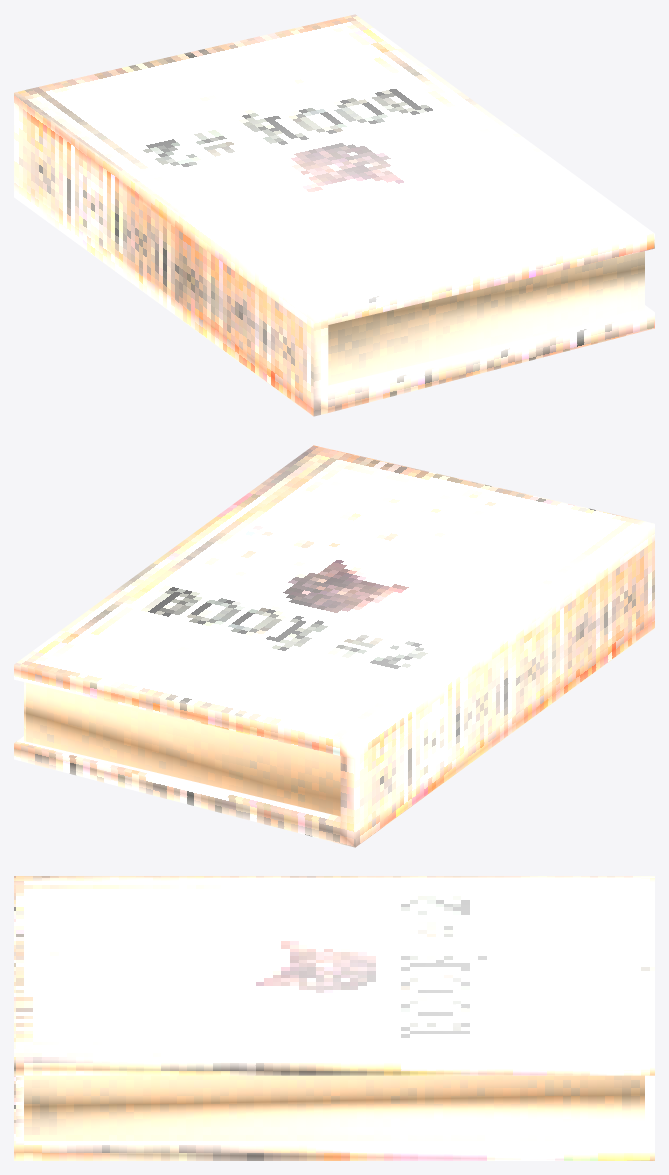
File: book_interactive2.glb
3 renders of one model, top to bottom at view 1: azimuth 30°, elevation 25°; view 2: azimuth 150°, elevation 25°; view 3: azimuth 270°, elevation 25°, orthographic. The views are drawn at different scales.
Visible parts, largest first — view 1: Book_Interactive2; view 2: Book_Interactive2; view 3: Book_Interactive2.
Part boxes in pixels (x1,y1,x2,y2): Book_Interactive2: (14, 14, 654, 416); Book_Interactive2: (14, 445, 654, 847); Book_Interactive2: (14, 876, 654, 1160).
Bounding box in the file's own units: 1.32 × 0.3851 × 2.
